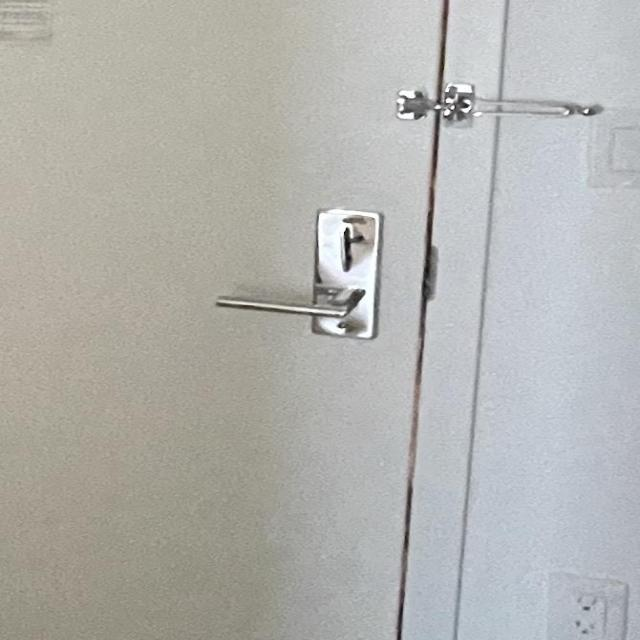door_handle: (202, 278, 381, 337)
